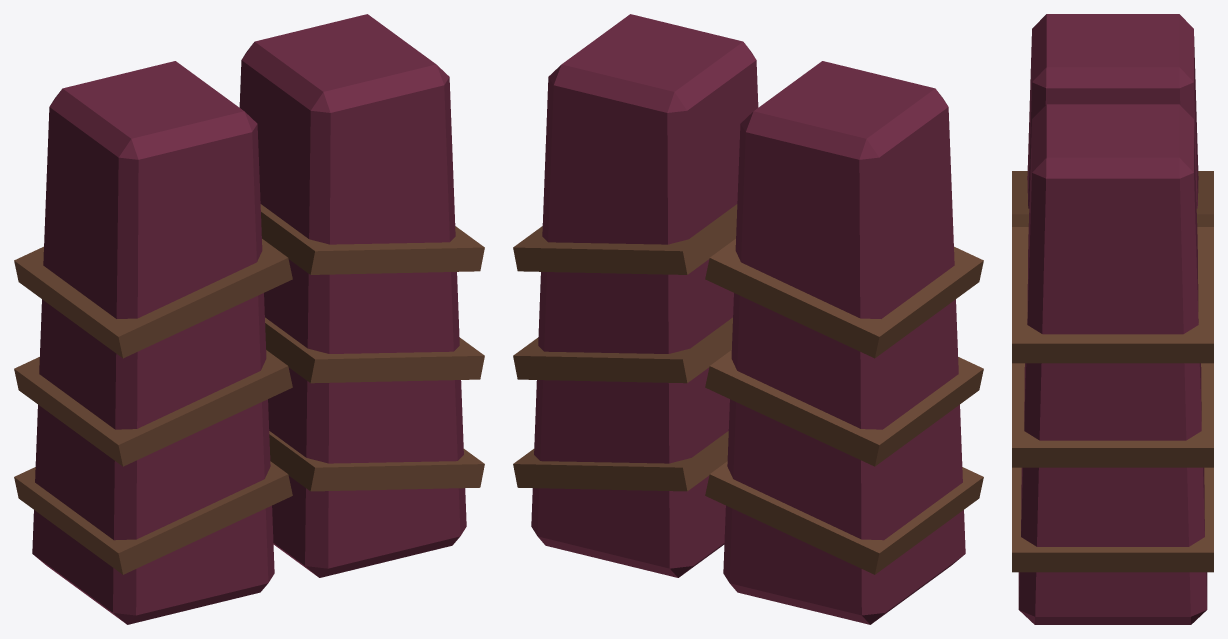
Rendered from ClothLeggings.fbx.
3 views of the same model, side by side, from view 1: azimuth 30°, elevation 25°; view 2: azimuth 150°, elevation 25°; view 3: azimuth 270°, elevation 25° (orthographic). The views are drawn at different scales.
Parts seen in each view (by area): view 1: ClothLeggings__leg_R, ClothLeggings__leg_L; view 2: ClothLeggings__leg_R, ClothLeggings__leg_L; view 3: ClothLeggings__leg_L, ClothLeggings__leg_R.
Boxes of the visible parts, left/top/right/bottom form: ClothLeggings__leg_R: left=14, top=61, right=292, bottom=624; ClothLeggings__leg_L: left=239, top=14, right=484, bottom=577; ClothLeggings__leg_R: left=705, top=61, right=983, bottom=624; ClothLeggings__leg_L: left=513, top=14, right=758, bottom=577; ClothLeggings__leg_L: left=1012, top=104, right=1213, bottom=624; ClothLeggings__leg_R: left=1012, top=14, right=1213, bottom=226.
Bounding box in the file's own units: 0.4961 × 0.62 × 0.245.
